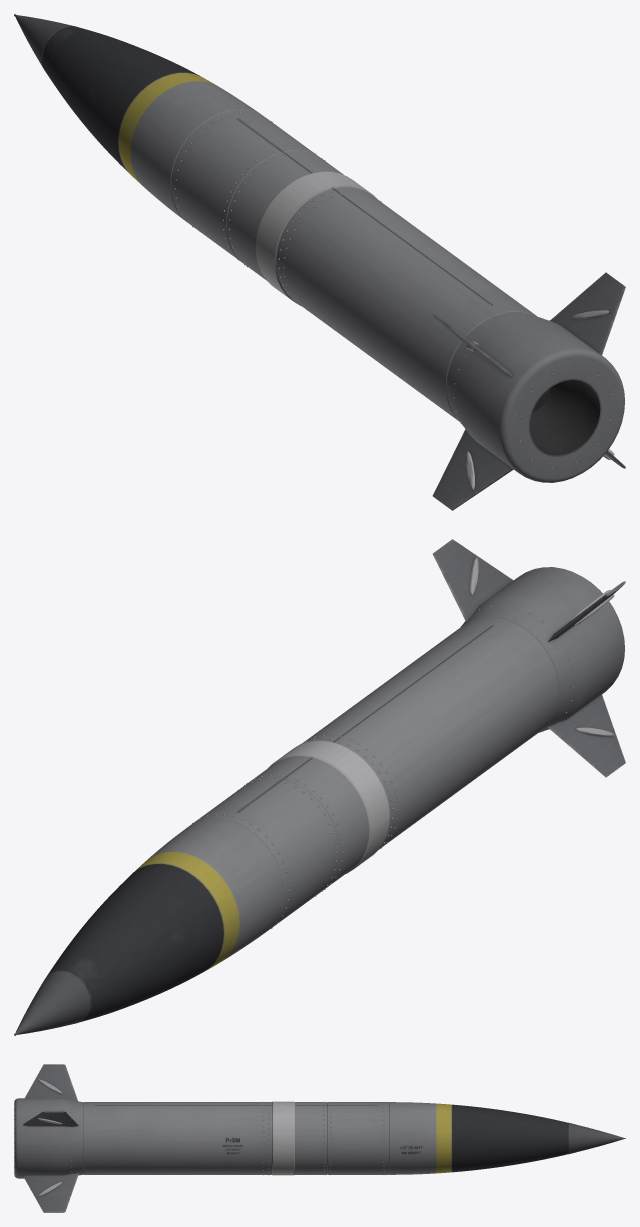
The model's file is prsm.glb.
3 renders of one model, top to bottom at view 1: azimuth 30°, elevation 25°; view 2: azimuth 150°, elevation 25°; view 3: azimuth 270°, elevation 25°, orthographic. The views are drawn at different scales.
Visible parts, largest first — view 1: PSM_body, PSM_fins, PSM_hw; view 2: PSM_body, PSM_fins, PSM_hw; view 3: PSM_body, PSM_fins, PSM_hw.
Part boxes in pixels (box(x1,y1,x2,y2)): PSM_body: box(14, 14, 624, 482); PSM_fins: box(432, 272, 625, 510); PSM_hw: box(175, 112, 614, 489); PSM_body: box(14, 567, 624, 1035); PSM_fins: box(432, 539, 625, 777); PSM_hw: box(192, 557, 614, 928); PSM_body: box(14, 1098, 625, 1178); PSM_fins: box(23, 1064, 78, 1212); PSM_hw: box(14, 1079, 384, 1196).
Size of the model in its own units: 0.7783 by 0.7783 by 4.24.
Materials: 5 (4 with a texture image).
